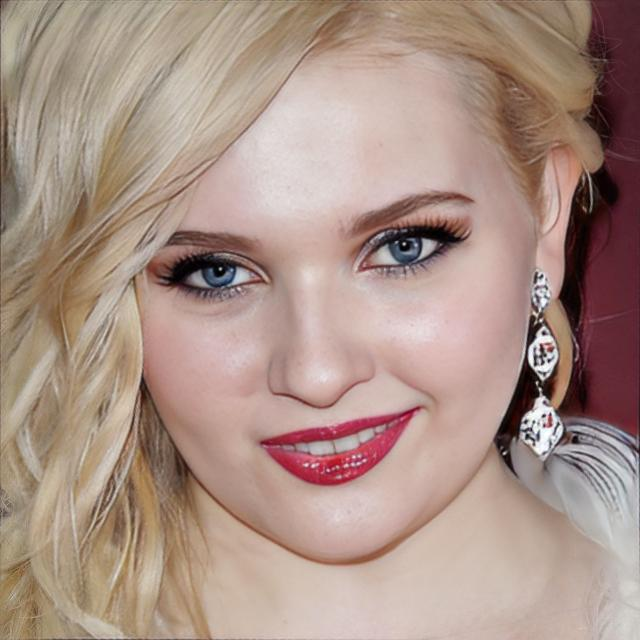content: (130, 2, 538, 566)
